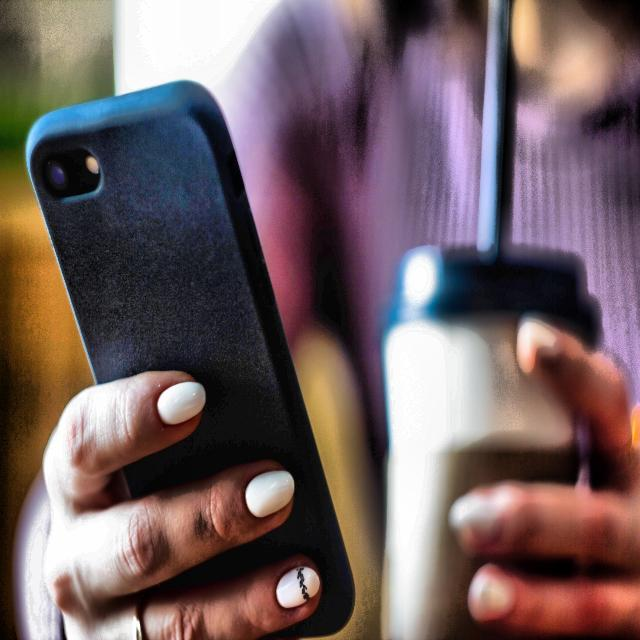Phone: (25, 77, 357, 640)
